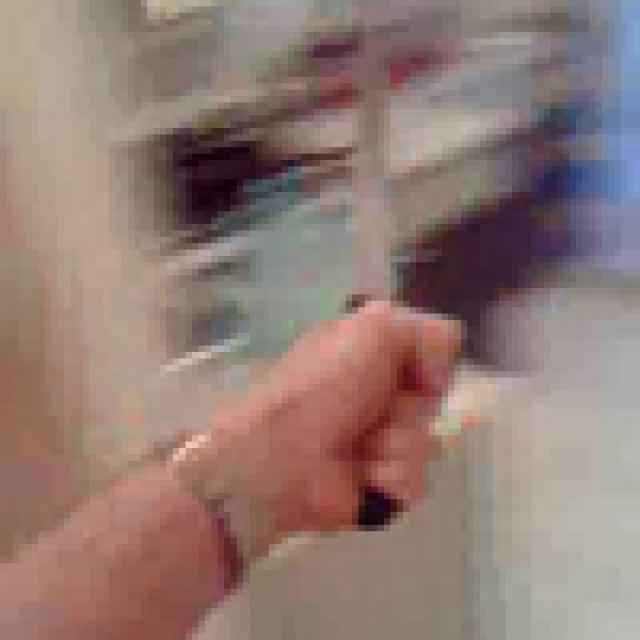Weapons: (330, 0, 407, 532)
